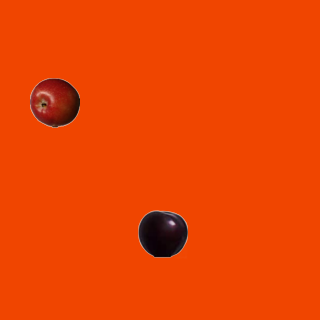Apple Braeburn: (29, 77, 79, 127)
Cherry Wax Black: (137, 208, 187, 258)
